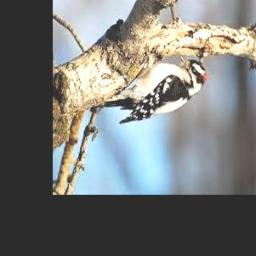Woodpecker: (90, 54, 206, 123)
